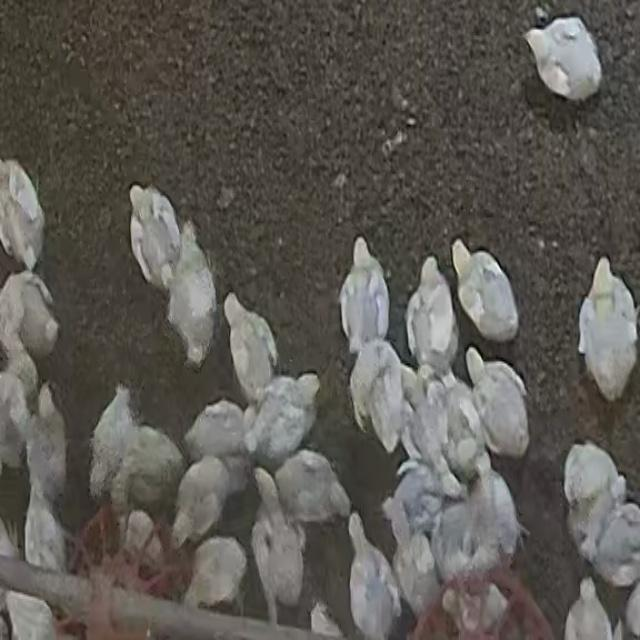chicken: (580, 258, 640, 400), (250, 468, 306, 616), (164, 221, 217, 367), (242, 372, 318, 469), (468, 347, 532, 458), (526, 15, 602, 107), (404, 382, 464, 498), (450, 241, 516, 341), (567, 440, 622, 558), (404, 252, 457, 372), (346, 513, 397, 637), (224, 293, 278, 406), (338, 237, 389, 355), (108, 423, 186, 500), (128, 183, 182, 293), (166, 456, 230, 548), (0, 269, 59, 368), (350, 342, 399, 454), (278, 448, 352, 521), (475, 467, 529, 562), (1, 160, 46, 273), (439, 370, 486, 473), (428, 506, 495, 578), (88, 387, 132, 496), (184, 538, 246, 608), (388, 518, 437, 606), (591, 501, 639, 587), (29, 382, 68, 486), (385, 464, 442, 527), (27, 481, 65, 572), (182, 400, 244, 454), (564, 580, 618, 640), (440, 584, 504, 630), (117, 512, 165, 572), (0, 367, 27, 465), (6, 592, 58, 640)
